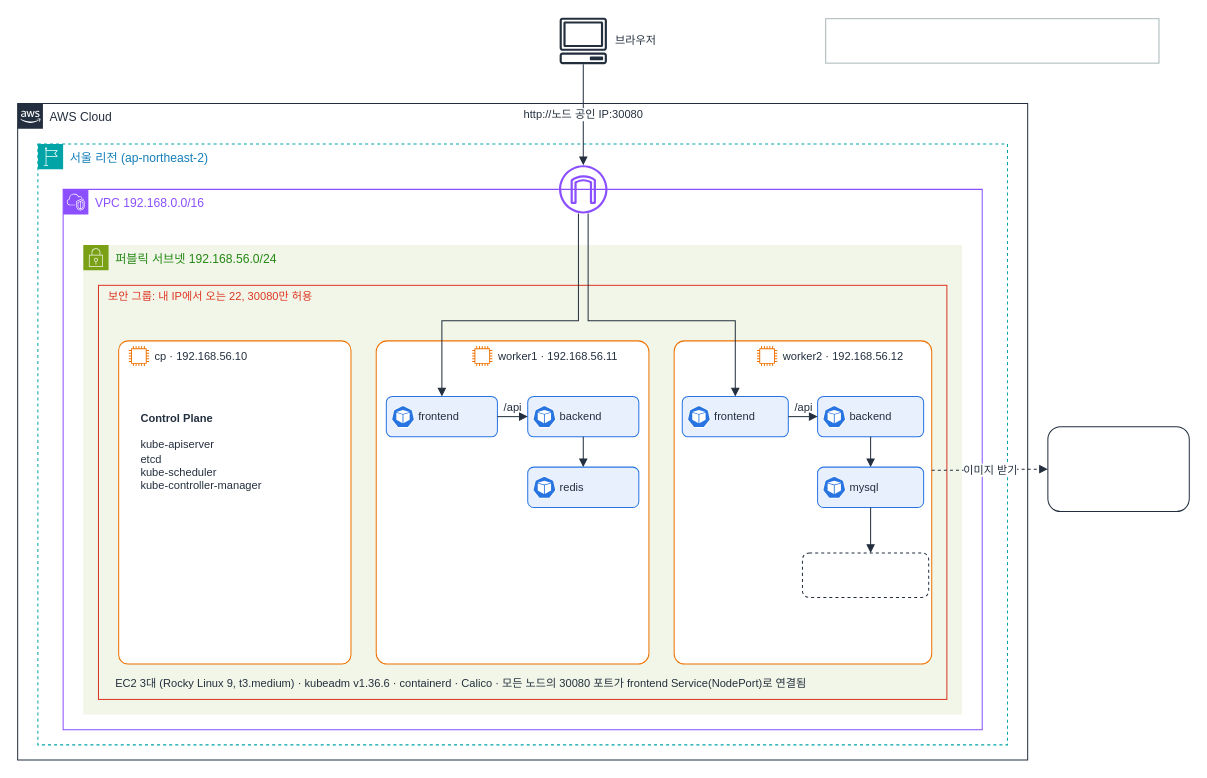
Some shapes in this 1207 by 778 pixel diagram are drawn without their labels. The shapes that lost their labels are listed below. From the top down, each one's centre as x and y in pixels, then its label:
At pixel 992 40: "실선: 요청 흐름 (보내는 쪽 → 받는 쪽) 점선: 이미지 받기".
At pixel 583 189: "인터넷 게이트웨이".
At pixel 1118 469: "Docker Hub harpda/ticketing-backend harpda/ticketing-frontend (2.0, 2.1)".
At pixel 865 574: "PVC 2Gi · local-path (노드 디스크)".
